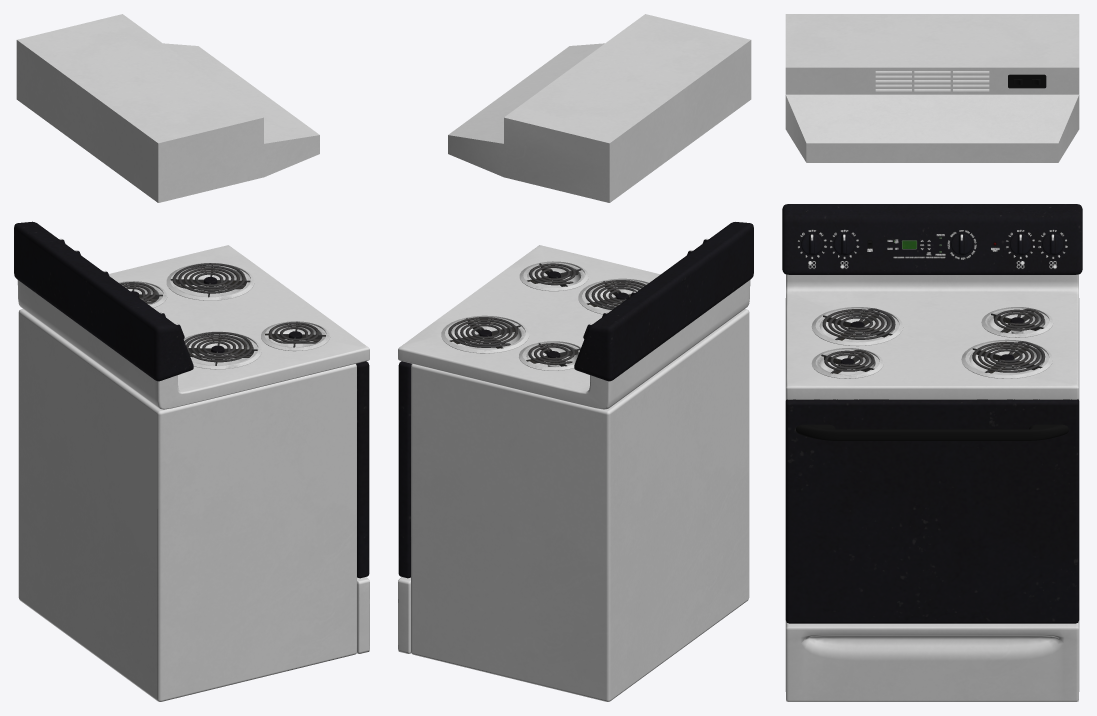
3 renders of one model, left to right at view 1: azimuth 30°, elevation 25°; view 2: azimuth 150°, elevation 25°; view 3: azimuth 270°, elevation 25°, orthographic. The views are drawn at different scales.
Parts seen in each view (by area): view 1: Stove; view 2: Stove; view 3: Stove.
Boxes of the visible parts, x1,y1,x2,y2 form: Stove: (14,14,369,701); Stove: (398,14,753,701); Stove: (782,14,1082,701).
Bounding box in the file's own units: 0.7112 × 1.67 × 0.7803.
2 materials, 2 textured.
